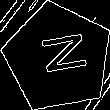N_W: (29, 34, 87, 81)
